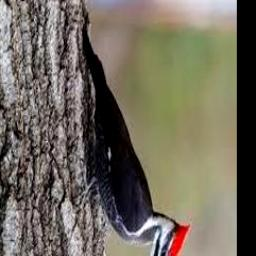Woodpecker: (78, 15, 191, 256)
